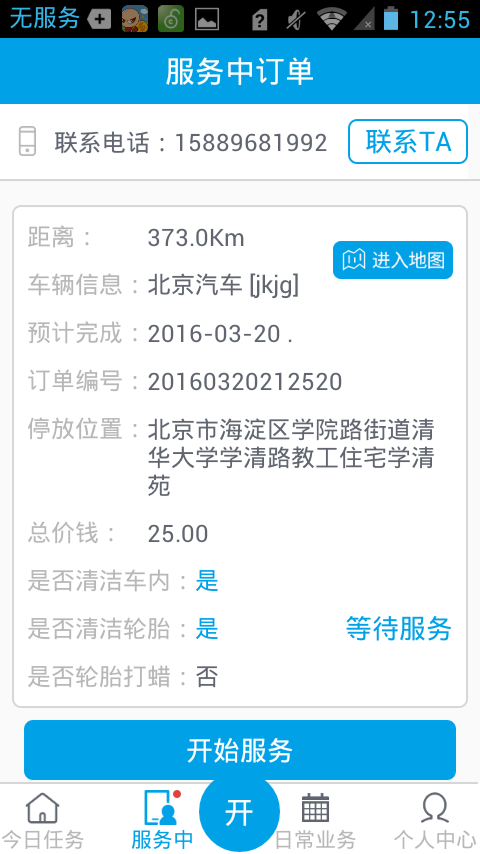button: (326, 235, 455, 285)
nav: (1, 780, 474, 854)
textview: (10, 199, 469, 711)
